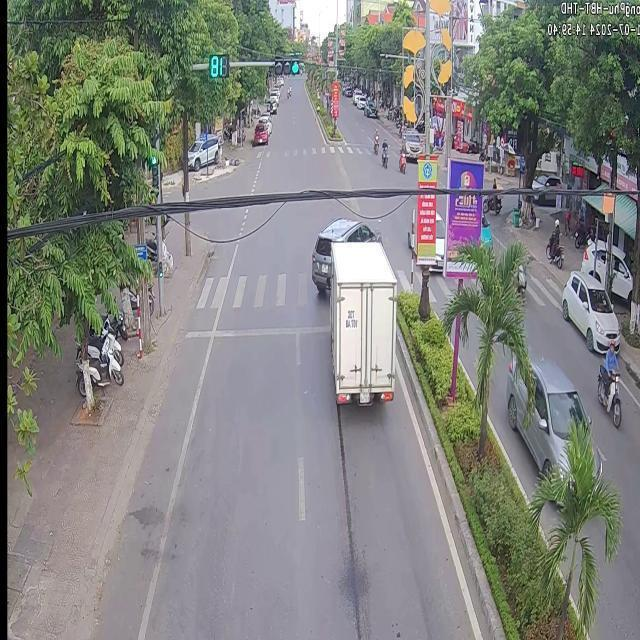car: (329, 240, 394, 402), (504, 358, 586, 474), (309, 216, 379, 291), (559, 269, 618, 349)
green_light: (273, 57, 301, 75), (209, 53, 230, 76), (149, 148, 159, 188)
motobike: (596, 362, 620, 427)
stop_line: (213, 325, 327, 336), (186, 329, 209, 336)
